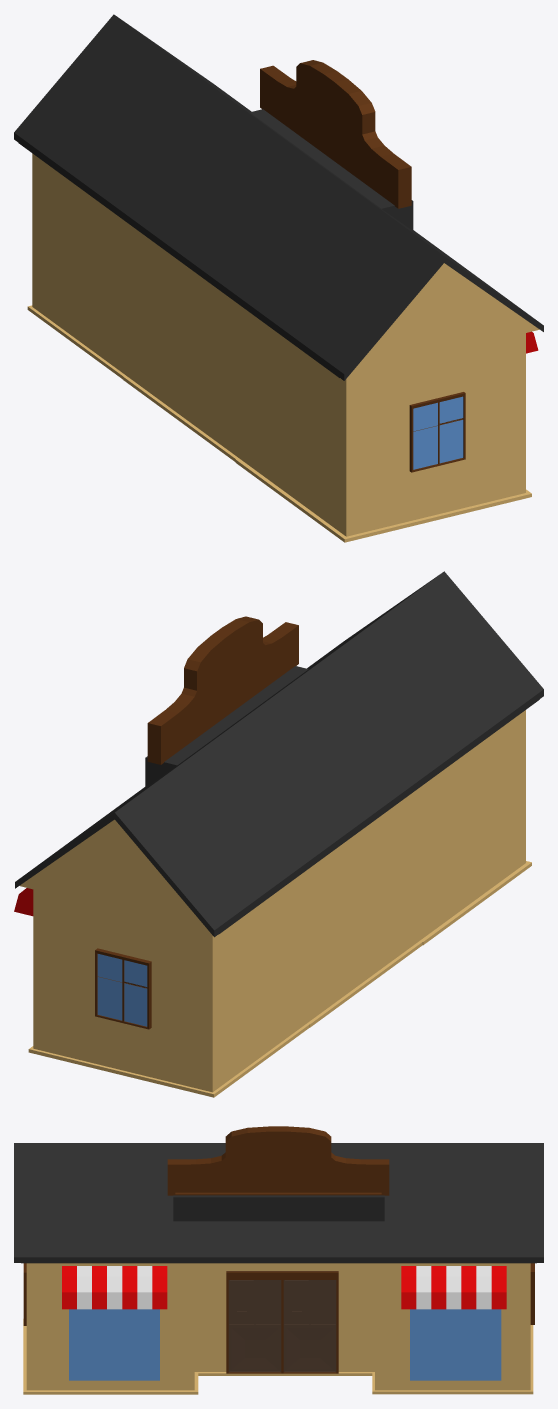
Rendered from house3TS.fbx.
3 renders of one model, top to bottom at view 1: azimuth 30°, elevation 25°; view 2: azimuth 150°, elevation 25°; view 3: azimuth 270°, elevation 25°, orthographic. The views are drawn at different scales.
Parts seen in each view (by area): view 1: Cube.001, Cube, Cube.002, Cube.008; view 2: Cube.001, Cube, Cube.002, Cube.009; view 3: Cube.001, Cube, Cube.002, Cube.006, Cube.005, Cube.057, Cube.007, Cube.004, Cube.003.
Boxes of the visible parts, box(x1,y1,x2,y2) form: Cube.001: box(14, 14, 543, 380); Cube: box(27, 153, 531, 542); Cube.002: box(260, 60, 411, 208); Cube.008: box(409, 392, 465, 472); Cube.001: box(15, 571, 543, 937); Cube: box(28, 710, 531, 1097); Cube.002: box(147, 616, 298, 764); Cube.009: box(95, 948, 151, 1029); Cube.001: box(14, 1143, 543, 1263); Cube: box(23, 1263, 533, 1394); Cube.002: box(167, 1126, 389, 1195); Cube.006: box(410, 1309, 501, 1380); Cube.005: box(69, 1309, 159, 1380); Cube.057: box(226, 1271, 283, 1373); Cube.007: box(283, 1271, 338, 1373); Cube.004: box(401, 1266, 506, 1309); Cube.003: box(62, 1266, 167, 1309).
Size of the model in its own units: 731 by 976 by 1868.
